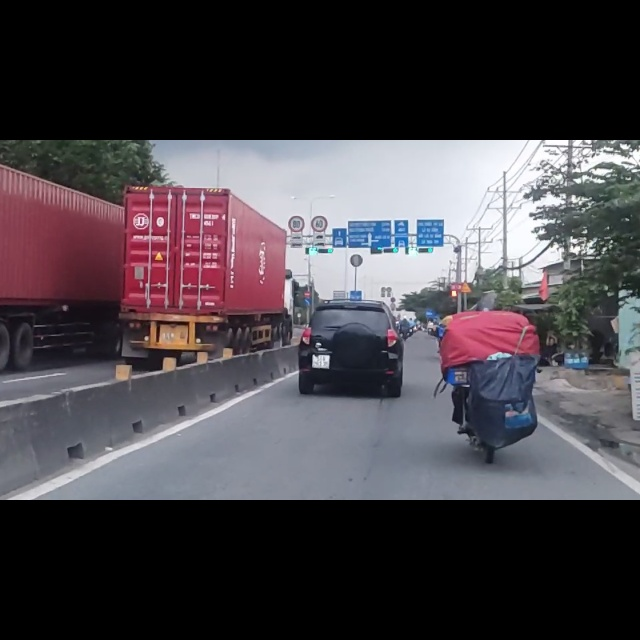bien_cam: (311, 135, 328, 164), (289, 135, 305, 164), (303, 268, 311, 279), (304, 281, 311, 293)
